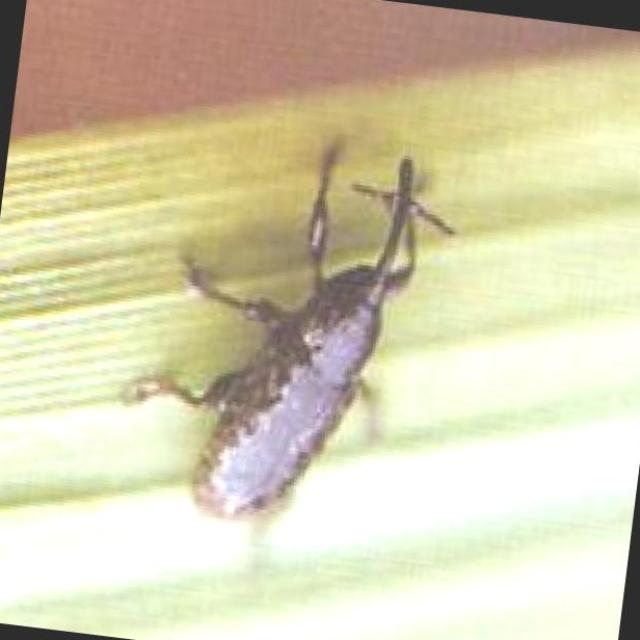ricebug: (125, 146, 454, 525)
